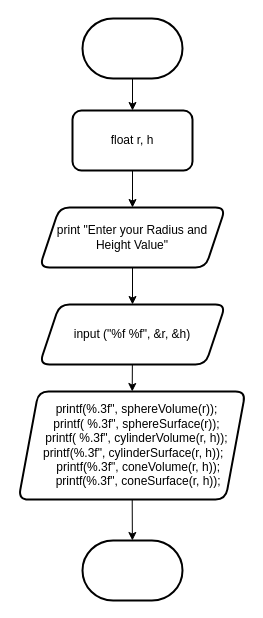
The diagram is 263 pixels wide and 618 high, and some of its shapes have lost their labels. The box of each missing label's shape, as (x1, y1, x2, y2) in pixels:
START: (81, 17, 183, 79)
STOP: (81, 539, 183, 601)
